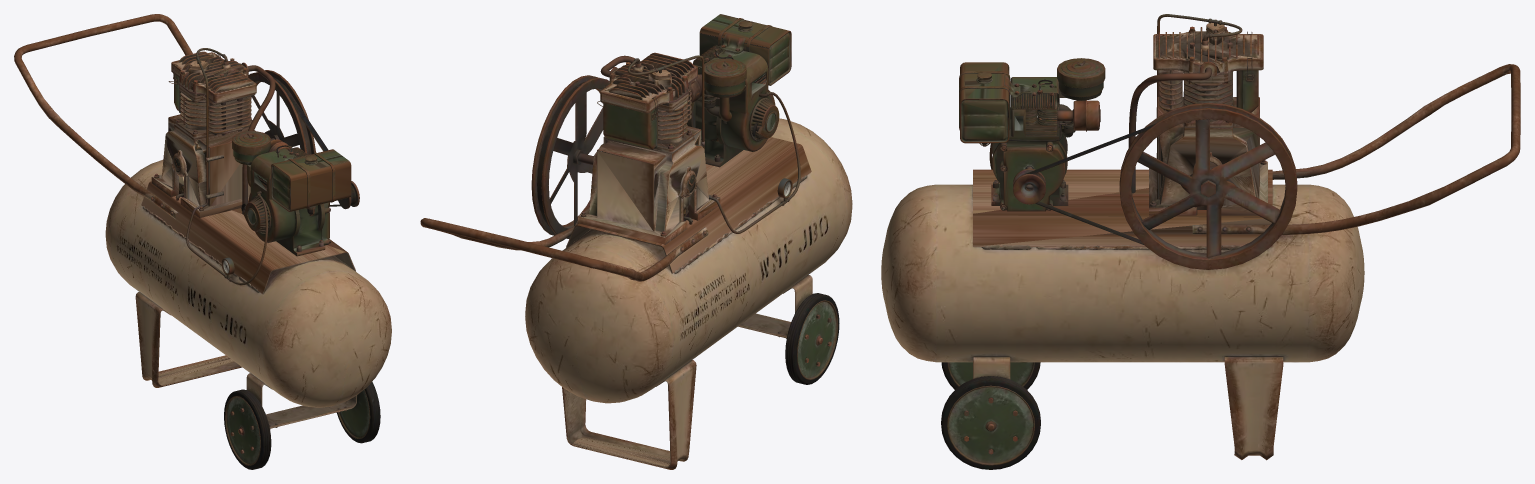
The model's file is old-military-compressor.glb.
3 renders of one model, left to right at view 1: azimuth 30°, elevation 25°; view 2: azimuth 150°, elevation 25°; view 3: azimuth 270°, elevation 25°, orthographic. The views are drawn at different scales.
Parts seen in each view (by area): view 1: old_military_compressor; view 2: old_military_compressor; view 3: old_military_compressor.
Part boxes in pixels (x1,y1,x2,y2): old_military_compressor: (14,14,391,469); old_military_compressor: (420,14,852,469); old_military_compressor: (881,14,1520,469).
Bounding box in the file's own units: 0.5983 × 1.18 × 1.68.
2 materials, 2 textured.
